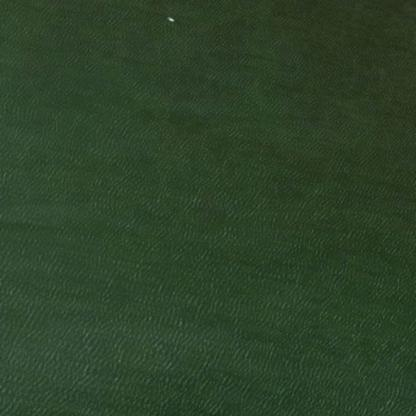ship: (0, 0, 10, 5)
